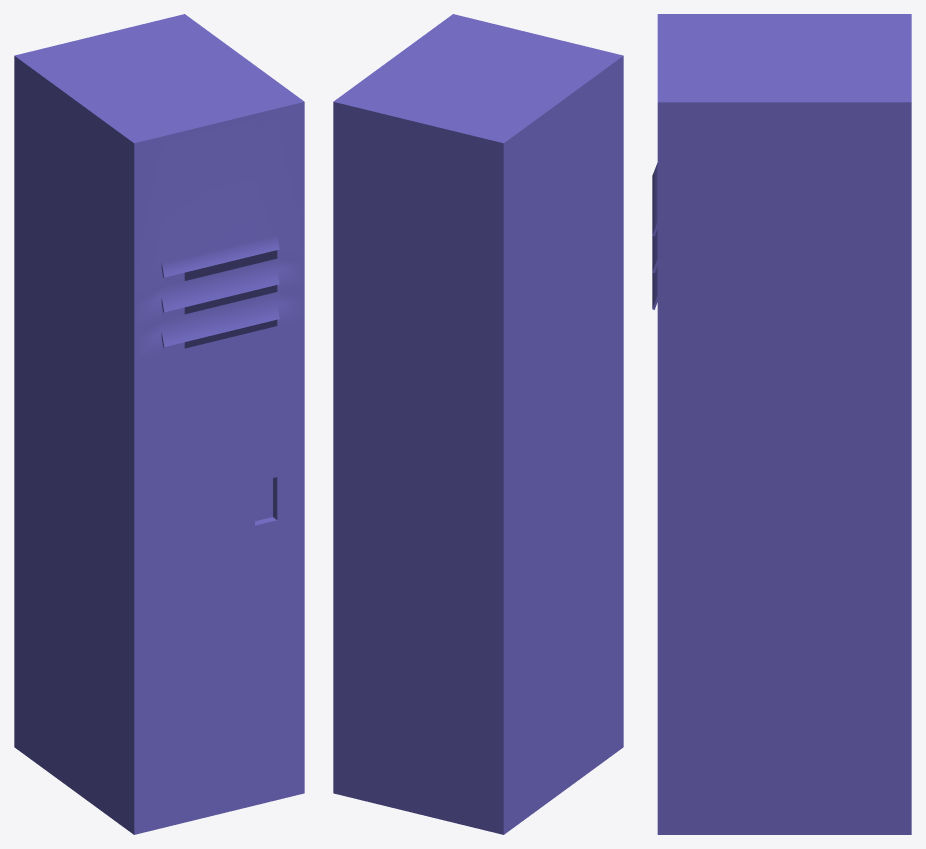
Rendered from LockerModel_Blue.fbx.
The picture shows the model from 3 angles, left to right: view 1: azimuth 30°, elevation 25°; view 2: azimuth 150°, elevation 25°; view 3: azimuth 270°, elevation 25°; orthographic projection. The views are drawn at different scales.
Visible parts, largest first — view 1: polySurface1; view 2: polySurface1; view 3: polySurface1.
Boxes of the visible parts, <box> form: polySurface1: <box>14,14,304,834</box>; polySurface1: <box>333,14,623,834</box>; polySurface1: <box>652,14,911,834</box>.
Size of the model in its own units: 1.55 by 6 by 1.92.
